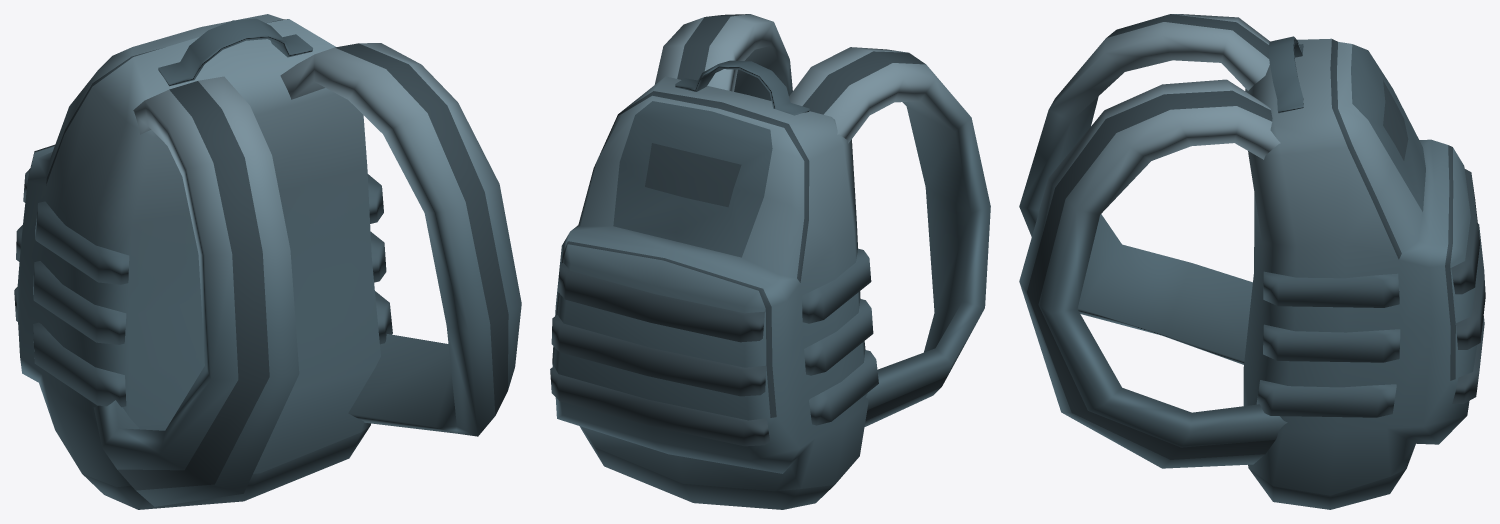
File: itemBackpack.fbx
3 views of the same model, side by side, from view 1: azimuth 30°, elevation 25°; view 2: azimuth 150°, elevation 25°; view 3: azimuth 270°, elevation 25° (orthographic). The views are drawn at different scales.
Visible parts, largest first — view 1: Backpack; view 2: Backpack; view 3: Backpack.
Boxes of the visible parts, x1,y1,x2,y2 form: Backpack: (14, 14, 521, 509); Backpack: (550, 14, 990, 509); Backpack: (1019, 14, 1485, 509).
Bounding box in the file's own units: 48.47 × 59.32 × 57.68.
